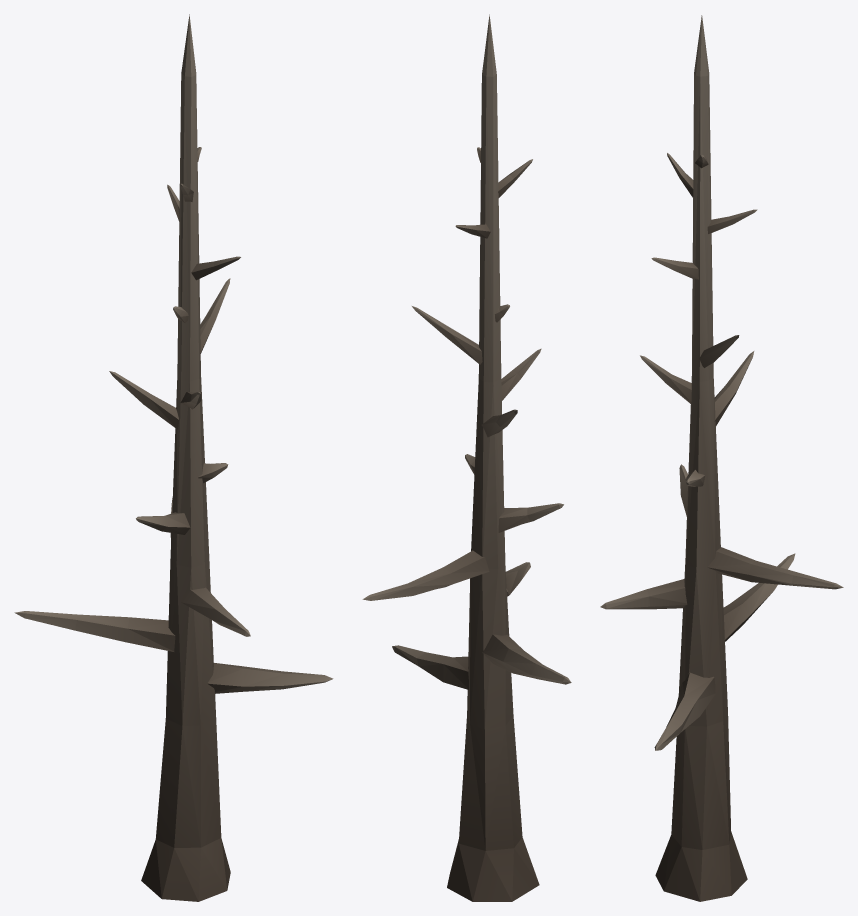
File: dead_S_std_s3.glb
3 views of the same model, side by side, from view 1: azimuth 30°, elevation 25°; view 2: azimuth 150°, elevation 25°; view 3: azimuth 270°, elevation 25° (orthographic).
Visible parts, largest first — view 1: Tree; view 2: Tree; view 3: Tree.
Boxes of the visible parts, x1,y1,x2,y2 form: Tree: (14,14,333,901); Tree: (362,14,571,901); Tree: (600,15,843,901).
Size of what is drawn, in the model's own units: 1.2 by 4 by 1.02.
